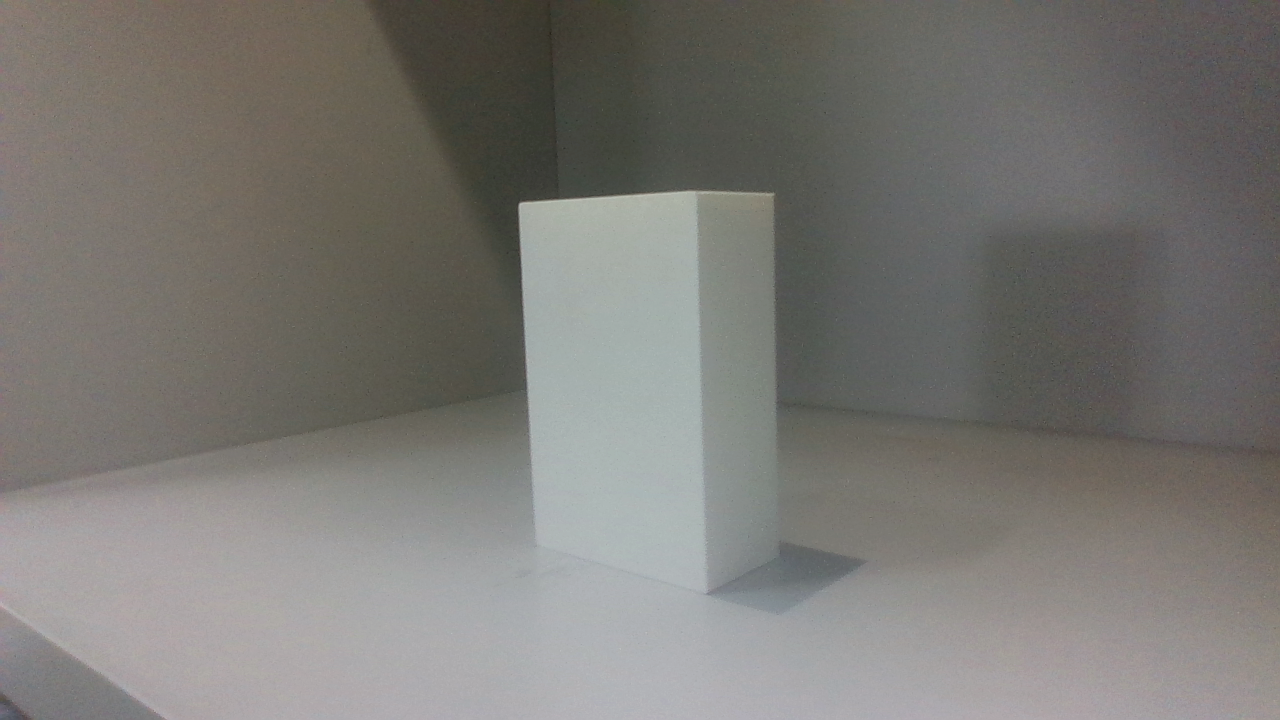Retangulo: (521, 190, 779, 592)
